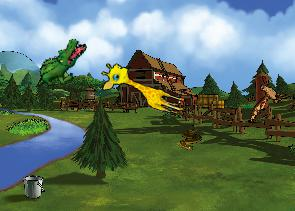crocodile: (33, 30, 88, 99)
eagle: (247, 75, 283, 122)
giraffe: (96, 59, 191, 117)
